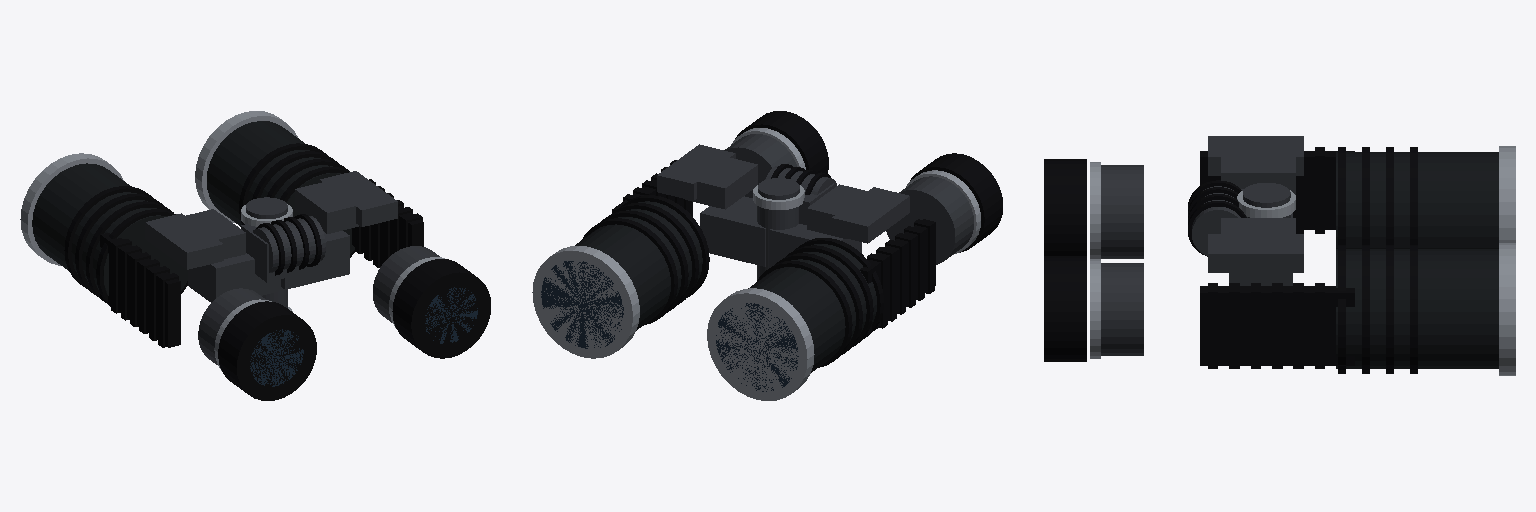
The robot description file, URDF, robot "binoculars":
<robot name="binoculars">
  <link name="left_body">
    <inertial>
      <origin xyz="-0.024 0.004 0.001" rpy="0 0 0" />
      <mass value="0.42" />
      <inertia ixx="0.00107887" ixy="0" ixz="0" iyy="0.0004095" iyz="0" izz="0.00123637" />
      </inertial>
    <visual>
      <geometry>
        <mesh filename="assets/meshes/left_body_shell.obj" />
        </geometry>
      <material name="armored_black">
        <color rgba="0.13 0.14 0.15 1" />
        </material>
      </visual>
    <visual>
      <origin xyz="-0.017 -0.002 0.003" rpy="0 0 0" />
      <geometry>
        <box size="0.032 0.024 0.018" />
        </geometry>
      <material name="graphite_metal">
        <color rgba="0.24 0.25 0.27 1" />
        </material>
      </visual>
    <visual>
      <origin xyz="-0.03 -0.003 0.022" rpy="0 0 0" />
      <geometry>
        <box size="0.02 0.028 0.01" />
        </geometry>
      <material name="graphite_metal">
        <color rgba="0.24 0.25 0.27 1" />
        </material>
      </visual>
    <visual>
      <origin xyz="-0.043 -0.004 0.023" rpy="0 0 0" />
      <geometry>
        <box size="0.018 0.036 0.008" />
        </geometry>
      <material name="graphite_metal">
        <color rgba="0.24 0.25 0.27 1" />
        </material>
      </visual>
    <visual>
      <origin xyz="-0.043 0.057 0" rpy="-1.5708 0 0" />
      <geometry>
        <cylinder radius="0.0225" length="0.062" />
        </geometry>
      <material name="armored_black">
        <color rgba="0.13 0.14 0.15 1" />
        </material>
      </visual>
    <visual>
      <origin xyz="-0.043 0.09 0" rpy="-1.5708 0 0" />
      <geometry>
        <cylinder radius="0.0248" length="0.006" />
        </geometry>
      <material name="brushed_steel">
        <color rgba="0.56 0.58 0.61 1" />
        </material>
      </visual>
    <visual>
      <origin xyz="-0.043 0.028 0" rpy="-1.5708 0 0" />
      <geometry>
        <cylinder radius="0.0242" length="0.003" />
        </geometry>
      <material name="textured_rubber">
        <color rgba="0.08 0.08 0.09 1" />
        </material>
      </visual>
    <visual>
      <origin xyz="-0.043 0.037 0" rpy="-1.5708 0 0" />
      <geometry>
        <cylinder radius="0.0242" length="0.003" />
        </geometry>
      <material name="textured_rubber">
        <color rgba="0.08 0.08 0.09 1" />
        </material>
      </visual>
    <visual>
      <origin xyz="-0.043 0.046 0" rpy="-1.5708 0 0" />
      <geometry>
        <cylinder radius="0.0242" length="0.003" />
        </geometry>
      <material name="textured_rubber">
        <color rgba="0.08 0.08 0.09 1" />
        </material>
      </visual>
    <visual>
      <origin xyz="-0.043 0.055 0" rpy="-1.5708 0 0" />
      <geometry>
        <cylinder radius="0.0242" length="0.003" />
        </geometry>
      <material name="textured_rubber">
        <color rgba="0.08 0.08 0.09 1" />
        </material>
      </visual>
    <visual>
      <origin xyz="-0.043 0.092 0" rpy="-1.5708 0 0" />
      <geometry>
        <cylinder radius="0.0205" length="0.002" />
        </geometry>
      <material name="optic_glass">
        <color rgba="0.16 0.22 0.28 0.45" />
        </material>
      </visual>
    <visual>
      <origin xyz="-0.043 -0.056 0" rpy="-1.5708 0 0" />
      <geometry>
        <cylinder radius="0.0175" length="0.02" />
        </geometry>
      <material name="graphite_metal">
        <color rgba="0.24 0.25 0.27 1" />
        </material>
      </visual>
    <visual>
      <origin xyz="-0.043 -0.064 0" rpy="-1.5708 0 0" />
      <geometry>
        <cylinder radius="0.0187" length="0.004" />
        </geometry>
      <material name="brushed_steel">
        <color rgba="0.56 0.58 0.61 1" />
        </material>
      </visual>
    <visual>
      <origin xyz="-0.043 -0.075 0" rpy="-1.5708 0 0" />
      <geometry>
        <cylinder radius="0.0198" length="0.016" />
        </geometry>
      <material name="textured_rubber">
        <color rgba="0.08 0.08 0.09 1" />
        </material>
      </visual>
    <visual>
      <origin xyz="-0.043 -0.082 0" rpy="-1.5708 0 0" />
      <geometry>
        <cylinder radius="0.0132" length="0.002" />
        </geometry>
      <material name="optic_glass">
        <color rgba="0.16 0.22 0.28 0.45" />
        </material>
      </visual>
    <visual>
      <origin xyz="-0.06 0.004 0.001" rpy="0 0 0" />
      <geometry>
        <box size="0.006 0.058 0.03" />
        </geometry>
      <material name="textured_rubber">
        <color rgba="0.08 0.08 0.09 1" />
        </material>
      </visual>
    <visual>
      <origin xyz="-0.06 -0.02 0.001" rpy="0 0 0" />
      <geometry>
        <box size="0.008 0.004 0.032" />
        </geometry>
      <material name="textured_rubber">
        <color rgba="0.08 0.08 0.09 1" />
        </material>
      </visual>
    <visual>
      <origin xyz="-0.06 -0.012 0.001" rpy="0 0 0" />
      <geometry>
        <box size="0.008 0.004 0.032" />
        </geometry>
      <material name="textured_rubber">
        <color rgba="0.08 0.08 0.09 1" />
        </material>
      </visual>
    <visual>
      <origin xyz="-0.06 -0.004 0.001" rpy="0 0 0" />
      <geometry>
        <box size="0.008 0.004 0.032" />
        </geometry>
      <material name="textured_rubber">
        <color rgba="0.08 0.08 0.09 1" />
        </material>
      </visual>
    <visual>
      <origin xyz="-0.06 0.004 0.001" rpy="0 0 0" />
      <geometry>
        <box size="0.008 0.004 0.032" />
        </geometry>
      <material name="textured_rubber">
        <color rgba="0.08 0.08 0.09 1" />
        </material>
      </visual>
    <visual>
      <origin xyz="-0.06 0.012 0.001" rpy="0 0 0" />
      <geometry>
        <box size="0.008 0.004 0.032" />
        </geometry>
      <material name="textured_rubber">
        <color rgba="0.08 0.08 0.09 1" />
        </material>
      </visual>
    <visual>
      <origin xyz="-0.06 0.02 0.001" rpy="0 0 0" />
      <geometry>
        <box size="0.008 0.004 0.032" />
        </geometry>
      <material name="textured_rubber">
        <color rgba="0.08 0.08 0.09 1" />
        </material>
      </visual>
    <visual>
      <geometry>
        <cylinder radius="0.006" length="0.05" />
        </geometry>
      <material name="brushed_steel">
        <color rgba="0.56 0.58 0.61 1" />
        </material>
      </visual>
    <visual>
      <origin xyz="0 0 -0.026" rpy="0 0 0" />
      <geometry>
        <cylinder radius="0.009" length="0.004" />
        </geometry>
      <material name="graphite_metal">
        <color rgba="0.24 0.25 0.27 1" />
        </material>
      </visual>
    <visual>
      <origin xyz="0 0 0.026" rpy="0 0 0" />
      <geometry>
        <cylinder radius="0.009" length="0.004" />
        </geometry>
      <material name="graphite_metal">
        <color rgba="0.24 0.25 0.27 1" />
        </material>
      </visual>
    <visual>
      <origin xyz="-0.004 -0.013 0.014" rpy="0 0 0" />
      <geometry>
        <box size="0.02 0.022 0.018" />
        </geometry>
      <material name="graphite_metal">
        <color rgba="0.24 0.25 0.27 1" />
        </material>
      </visual>
    <visual>
      <origin xyz="0 -0.018 0.017" rpy="0 1.5708 0" />
      <geometry>
        <cylinder radius="0.01" length="0.026" />
        </geometry>
      <material name="graphite_metal">
        <color rgba="0.24 0.25 0.27 1" />
        </material>
      </visual>
    <visual>
      <origin xyz="-0.009 -0.018 0.017" rpy="0 1.5708 0" />
      <geometry>
        <cylinder radius="0.0115" length="0.002" />
        </geometry>
      <material name="textured_rubber">
        <color rgba="0.08 0.08 0.09 1" />
        </material>
      </visual>
    <visual>
      <origin xyz="-0.003 -0.018 0.017" rpy="0 1.5708 0" />
      <geometry>
        <cylinder radius="0.0115" length="0.002" />
        </geometry>
      <material name="textured_rubber">
        <color rgba="0.08 0.08 0.09 1" />
        </material>
      </visual>
    <visual>
      <origin xyz="0.003 -0.018 0.017" rpy="0 1.5708 0" />
      <geometry>
        <cylinder radius="0.0115" length="0.002" />
        </geometry>
      <material name="textured_rubber">
        <color rgba="0.08 0.08 0.09 1" />
        </material>
      </visual>
    <visual>
      <origin xyz="0.009 -0.018 0.017" rpy="0 1.5708 0" />
      <geometry>
        <cylinder radius="0.0115" length="0.002" />
        </geometry>
      <material name="textured_rubber">
        <color rgba="0.08 0.08 0.09 1" />
        </material>
      </visual>
    </link>
  <link name="right_body">
    <inertial>
      <origin xyz="0.024 0.004 0.001" rpy="0 0 0" />
      <mass value="0.36" />
      <inertia ixx="0.00092475" ixy="0" ixz="0" iyy="0.000351" iyz="0" izz="0.00105975" />
      </inertial>
    <visual>
      <geometry>
        <mesh filename="assets/meshes/right_body_shell.obj" />
        </geometry>
      <material name="armored_black">
        <color rgba="0.13 0.14 0.15 1" />
        </material>
      </visual>
    <visual>
      <origin xyz="0.017 -0.002 0.003" rpy="0 0 0" />
      <geometry>
        <box size="0.032 0.024 0.018" />
        </geometry>
      <material name="graphite_metal">
        <color rgba="0.24 0.25 0.27 1" />
        </material>
      </visual>
    <visual>
      <origin xyz="0.03 -0.003 0.022" rpy="0 0 0" />
      <geometry>
        <box size="0.02 0.028 0.01" />
        </geometry>
      <material name="graphite_metal">
        <color rgba="0.24 0.25 0.27 1" />
        </material>
      </visual>
    <visual>
      <origin xyz="0.043 -0.004 0.023" rpy="0 0 0" />
      <geometry>
        <box size="0.018 0.036 0.008" />
        </geometry>
      <material name="graphite_metal">
        <color rgba="0.24 0.25 0.27 1" />
        </material>
      </visual>
    <visual>
      <origin xyz="0.043 0.057 0" rpy="-1.5708 0 0" />
      <geometry>
        <cylinder radius="0.0225" length="0.062" />
        </geometry>
      <material name="armored_black">
        <color rgba="0.13 0.14 0.15 1" />
        </material>
      </visual>
    <visual>
      <origin xyz="0.043 0.09 0" rpy="-1.5708 0 0" />
      <geometry>
        <cylinder radius="0.0248" length="0.006" />
        </geometry>
      <material name="brushed_steel">
        <color rgba="0.56 0.58 0.61 1" />
        </material>
      </visual>
    <visual>
      <origin xyz="0.043 0.028 0" rpy="-1.5708 0 0" />
      <geometry>
        <cylinder radius="0.0242" length="0.003" />
        </geometry>
      <material name="textured_rubber">
        <color rgba="0.08 0.08 0.09 1" />
        </material>
      </visual>
    <visual>
      <origin xyz="0.043 0.037 0" rpy="-1.5708 0 0" />
      <geometry>
        <cylinder radius="0.0242" length="0.003" />
        </geometry>
      <material name="textured_rubber">
        <color rgba="0.08 0.08 0.09 1" />
        </material>
      </visual>
    <visual>
      <origin xyz="0.043 0.046 0" rpy="-1.5708 0 0" />
      <geometry>
        <cylinder radius="0.0242" length="0.003" />
        </geometry>
      <material name="textured_rubber">
        <color rgba="0.08 0.08 0.09 1" />
        </material>
      </visual>
    <visual>
      <origin xyz="0.043 0.055 0" rpy="-1.5708 0 0" />
      <geometry>
        <cylinder radius="0.0242" length="0.003" />
        </geometry>
      <material name="textured_rubber">
        <color rgba="0.08 0.08 0.09 1" />
        </material>
      </visual>
    <visual>
      <origin xyz="0.043 0.092 0" rpy="-1.5708 0 0" />
      <geometry>
        <cylinder radius="0.0205" length="0.002" />
        </geometry>
      <material name="optic_glass">
        <color rgba="0.16 0.22 0.28 0.45" />
        </material>
      </visual>
    <visual>
      <origin xyz="0.043 -0.056 0" rpy="-1.5708 0 0" />
      <geometry>
        <cylinder radius="0.0175" length="0.02" />
        </geometry>
      <material name="graphite_metal">
        <color rgba="0.24 0.25 0.27 1" />
        </material>
      </visual>
    <visual>
      <origin xyz="0.043 -0.064 0" rpy="-1.5708 0 0" />
      <geometry>
        <cylinder radius="0.0187" length="0.004" />
        </geometry>
      <material name="brushed_steel">
        <color rgba="0.56 0.58 0.61 1" />
        </material>
      </visual>
    <visual>
      <origin xyz="0.043 -0.075 0" rpy="-1.5708 0 0" />
      <geometry>
        <cylinder radius="0.0198" length="0.016" />
        </geometry>
      <material name="textured_rubber">
        <color rgba="0.08 0.08 0.09 1" />
        </material>
      </visual>
    <visual>
      <origin xyz="0.043 -0.082 0" rpy="-1.5708 0 0" />
      <geometry>
        <cylinder radius="0.0132" length="0.002" />
        </geometry>
      <material name="optic_glass">
        <color rgba="0.16 0.22 0.28 0.45" />
        </material>
      </visual>
    <visual>
      <origin xyz="0.06 0.004 0.001" rpy="0 0 0" />
      <geometry>
        <box size="0.006 0.058 0.03" />
        </geometry>
      <material name="textured_rubber">
        <color rgba="0.08 0.08 0.09 1" />
        </material>
      </visual>
    <visual>
      <origin xyz="0.06 -0.02 0.001" rpy="0 0 0" />
      <geometry>
        <box size="0.008 0.004 0.032" />
        </geometry>
      <material name="textured_rubber">
        <color rgba="0.08 0.08 0.09 1" />
        </material>
      </visual>
    <visual>
      <origin xyz="0.06 -0.012 0.001" rpy="0 0 0" />
      <geometry>
        <box size="0.008 0.004 0.032" />
        </geometry>
      <material name="textured_rubber">
        <color rgba="0.08 0.08 0.09 1" />
        </material>
      </visual>
    <visual>
      <origin xyz="0.06 -0.004 0.001" rpy="0 0 0" />
      <geometry>
        <box size="0.008 0.004 0.032" />
        </geometry>
      <material name="textured_rubber">
        <color rgba="0.08 0.08 0.09 1" />
        </material>
      </visual>
    <visual>
      <origin xyz="0.06 0.004 0.001" rpy="0 0 0" />
      <geometry>
        <box size="0.008 0.004 0.032" />
        </geometry>
      <material name="textured_rubber">
        <color rgba="0.08 0.08 0.09 1" />
        </material>
      </visual>
    <visual>
      <origin xyz="0.06 0.012 0.001" rpy="0 0 0" />
      <geometry>
        <box size="0.008 0.004 0.032" />
        </geometry>
      <material name="textured_rubber">
        <color rgba="0.08 0.08 0.09 1" />
        </material>
      </visual>
    <visual>
      <origin xyz="0.06 0.02 0.001" rpy="0 0 0" />
      <geometry>
        <box size="0.008 0.004 0.032" />
        </geometry>
      <material name="textured_rubber">
        <color rgba="0.08 0.08 0.09 1" />
        </material>
      </visual>
    <visual>
      <geometry>
        <cylinder radius="0.0092" length="0.046" />
        </geometry>
      <material name="graphite_metal">
        <color rgba="0.24 0.25 0.27 1" />
        </material>
      </visual>
    <visual>
      <origin xyz="0 0 -0.024" rpy="0 0 0" />
      <geometry>
        <cylinder radius="0.011" length="0.004" />
        </geometry>
      <material name="brushed_steel">
        <color rgba="0.56 0.58 0.61 1" />
        </material>
      </visual>
    <visual>
      <origin xyz="0 0 0.024" rpy="0 0 0" />
      <geometry>
        <cylinder radius="0.011" length="0.004" />
        </geometry>
      <material name="brushed_steel">
        <color rgba="0.56 0.58 0.61 1" />
        </material>
      </visual>
    </link>
  <joint name="center_hinge" type="revolute">
    <parent link="left_body" />
    <child link="right_body" />
    <axis xyz="0 0 1" />
    <limit effort="4" velocity="1.2" lower="-0.279253" upper="0.314159" />
    </joint>
  </robot>

--- Facts derived from the render (not from the file) ---
3 views of the same robot in one strip: view 1: azimuth 30°, elevation 25°; view 2: azimuth 150°, elevation 25°; view 3: azimuth 270°, elevation 25° (orthographic).
Model binoculars with 2 links and 1 joints (1 revolute), rooted at left_body, posed every joint at zero.
Visible links, largest first — view 1: left_body, right_body; view 2: left_body, right_body; view 3: right_body, left_body.
Link boxes in pixels (<box>): left_body: <box>20,153,325,400</box>; right_body: <box>195,111,490,358</box>; left_body: <box>707,153,1002,400</box>; right_body: <box>532,111,828,358</box>; right_body: <box>1044,190,1515,375</box>; left_body: <box>1044,136,1515,258</box>.
Bounding box of the posed robot: 0.1356 × 0.176 × 0.0565 m (x, y, z).
0 mesh visuals loaded from 2 distinct referenced files (none loaded); not drawn: 2 (reference not matched to a file when rendering).
